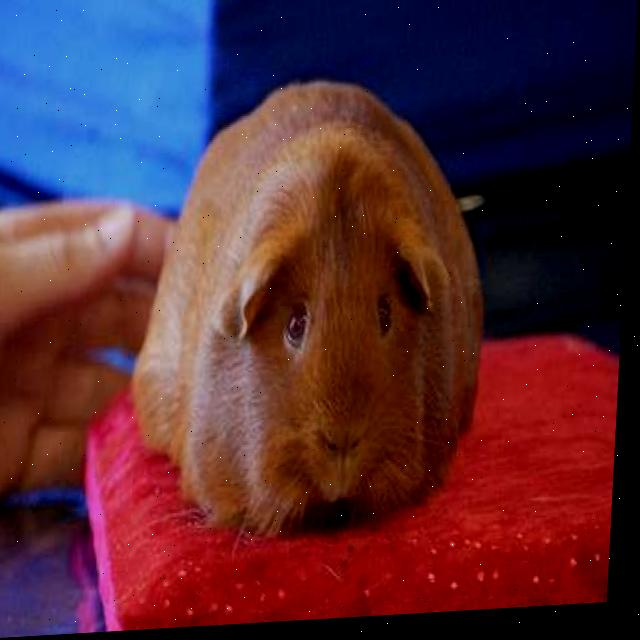guinea pig: (137, 79, 492, 529)
